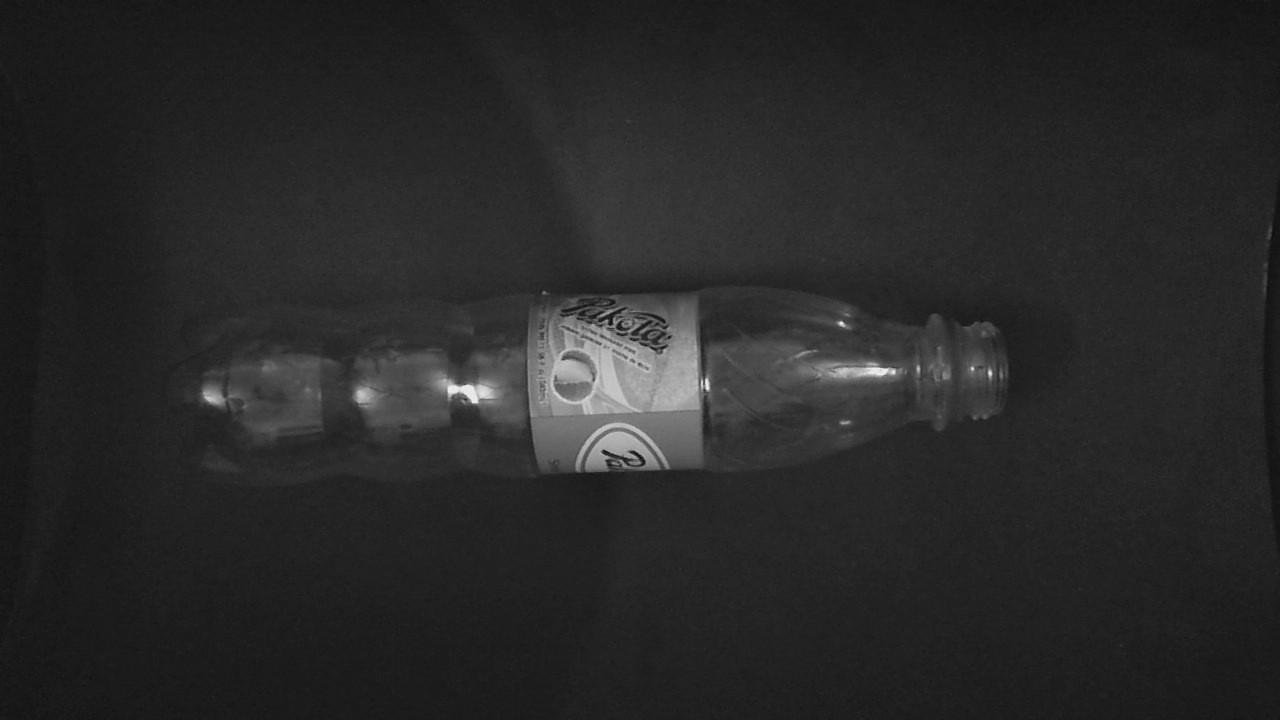bottle: (141, 269, 1039, 509)
